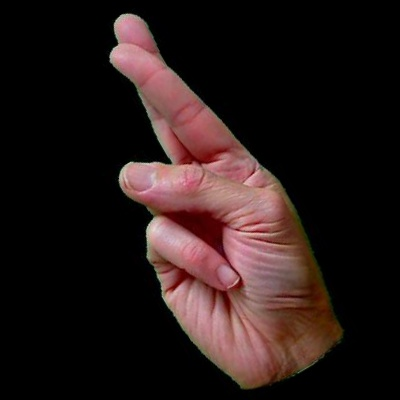r: (1, 2, 400, 400)
